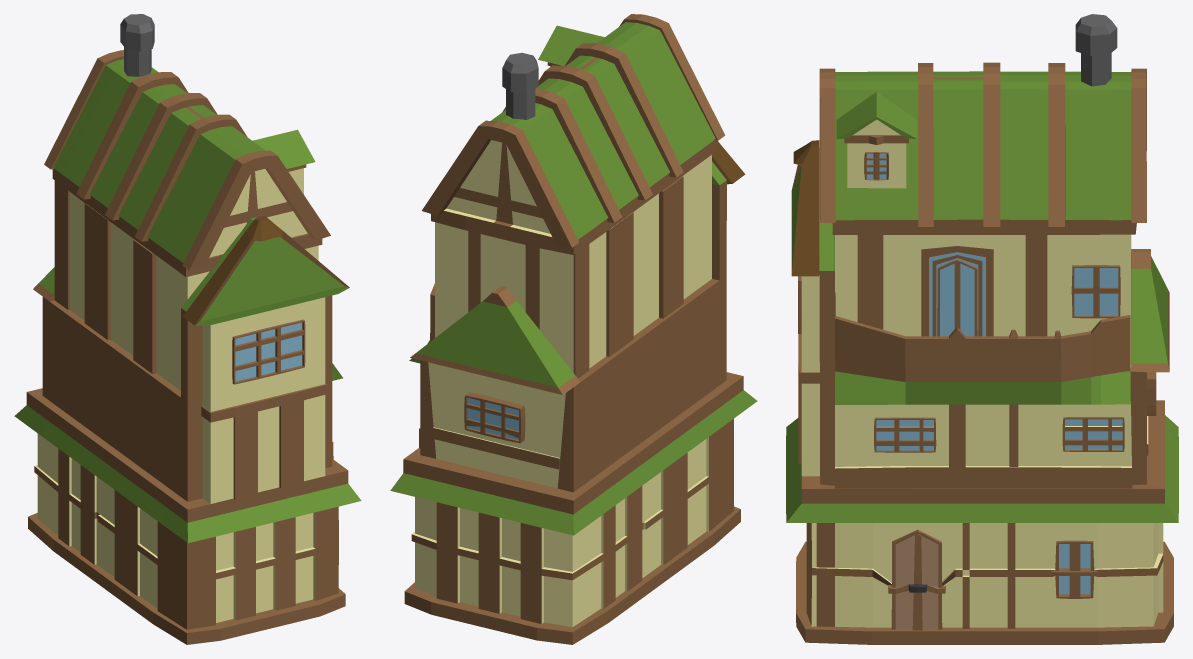
Rendered from Building_LV4_Shop_Green.fbx.
The picture shows the model from 3 angles, left to right: view 1: azimuth 30°, elevation 25°; view 2: azimuth 150°, elevation 25°; view 3: azimuth 270°, elevation 25°; orthographic projection. The views are drawn at different scales.
Parts seen in each view (by area): view 1: LV4_Green; view 2: LV4_Green; view 3: LV4_Green.
Part boxes in pixels (x1=…): LV4_Green: x1=14, y1=14, x2=361, y2=644; LV4_Green: x1=390, y1=14, x2=757, y2=644; LV4_Green: x1=786, y1=14, x2=1178, y2=644.
Bounding box in the file's own units: 220 × 609 × 375.
Materials: 1 (1 with a texture image).
